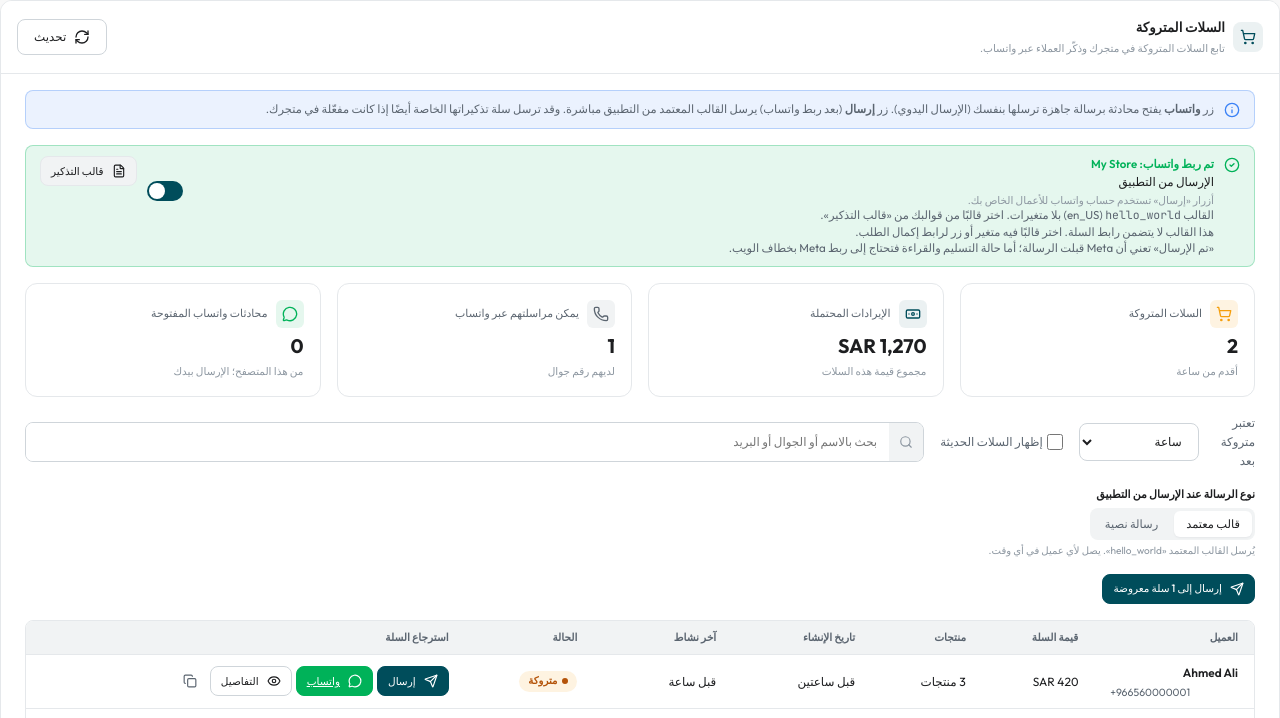
it: CartRecoveryTab › picks the reminder template from the library and saves it
Click the button "قالب التذكير" at coordinates (88, 171), box [40,156,137,186]
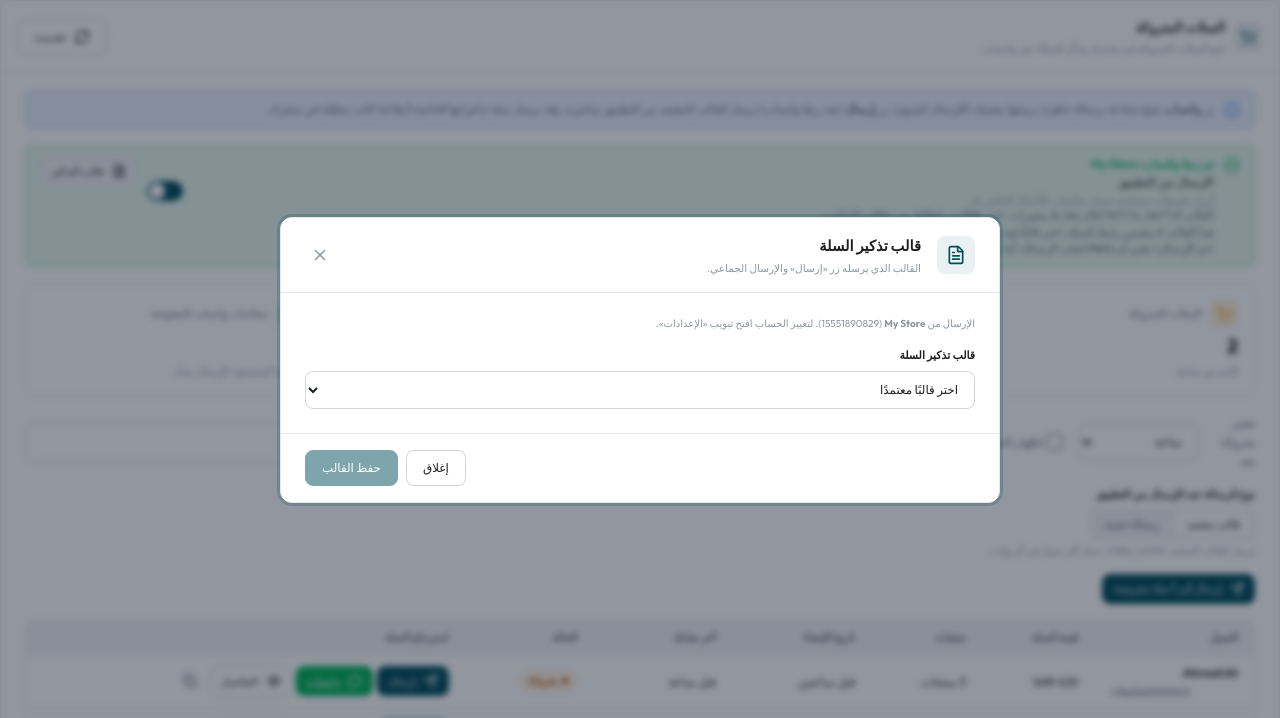
Result: the text "My Store" is shown at [884,317,925,330]
Select "cart_reminder_ar · ar · تسويقي" in the dropdown labelled "قالب تذكير السلة" at coordinates (640, 390), box [305,371,975,409]
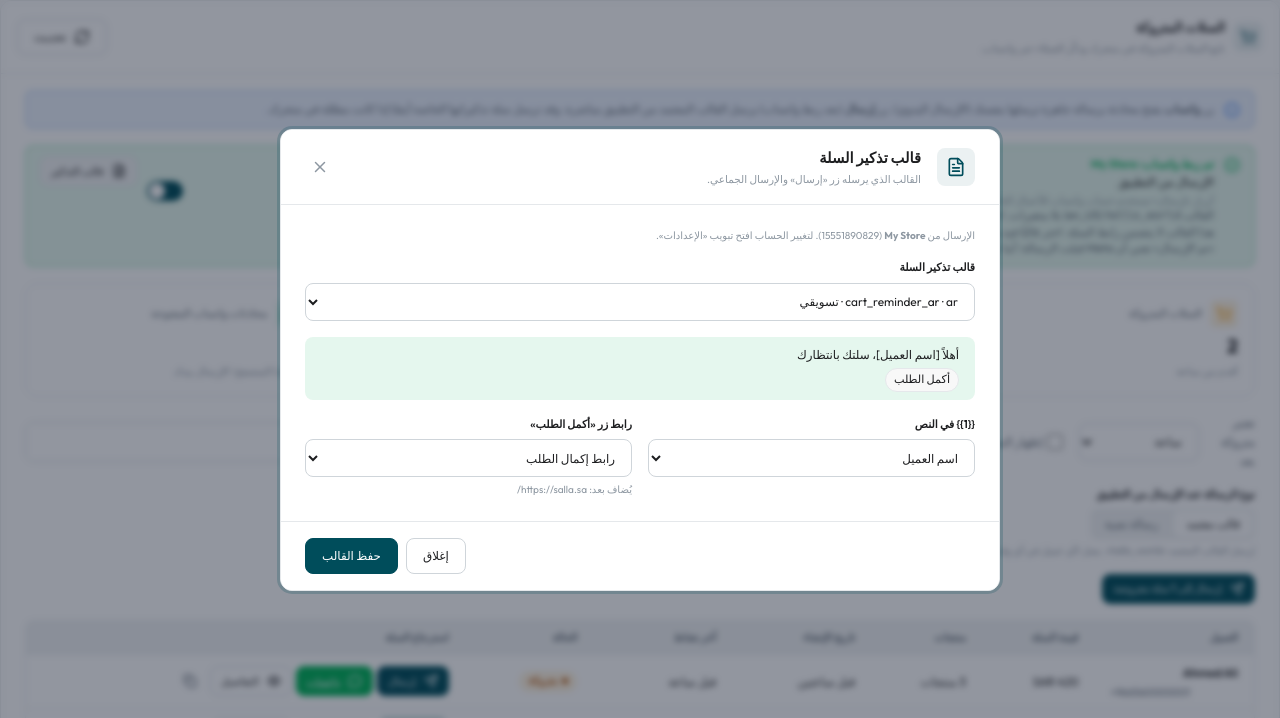
Result: the dropdown labelled "{{1}} في النص" shows "اسم العميل" at [648,439,975,477]
Result: the dropdown labelled "رابط زر «أكمل الطلب»" shows "رابط إكمال الطلب" at [305,439,632,477]
Result: the text "أهلاً [اسم العميل]، سلتك بانتظارك" is shown at [797,347,959,362]
Click the button "حفظ القالب" at coordinates (351, 556), box [305,538,398,574]
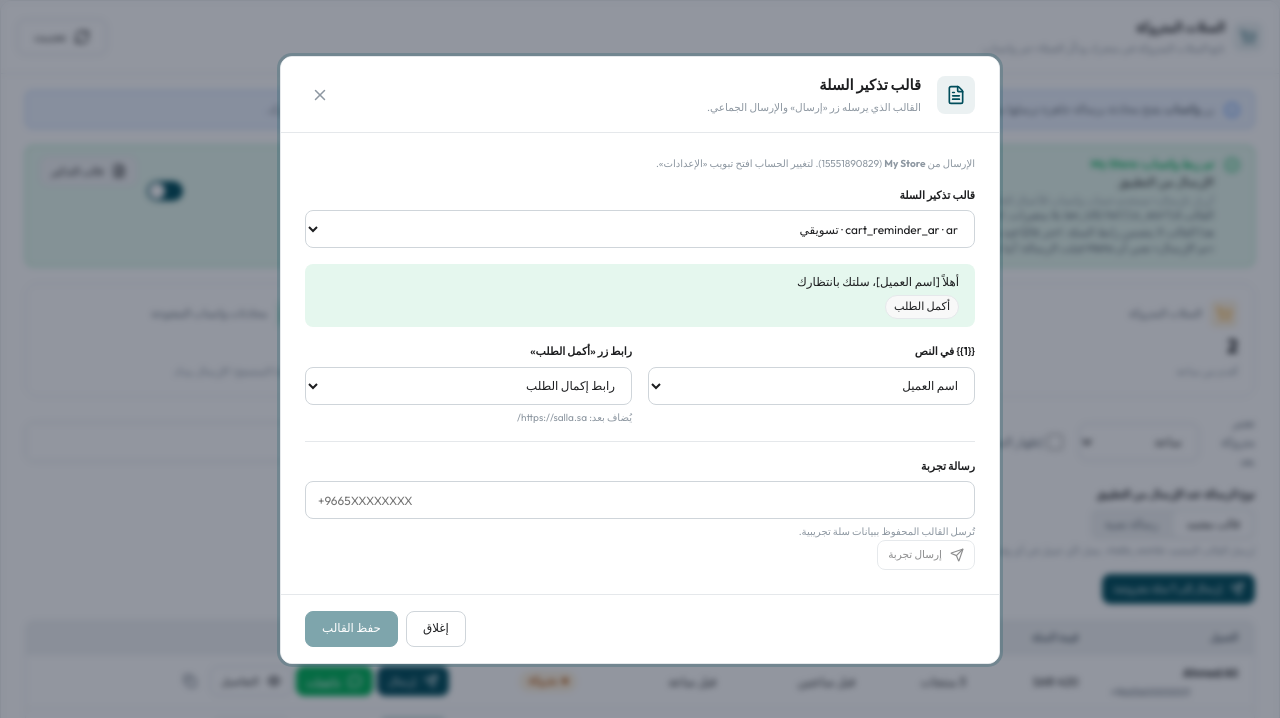
Result: the text "رسالة تجربة" is shown at [921,458,975,475]
